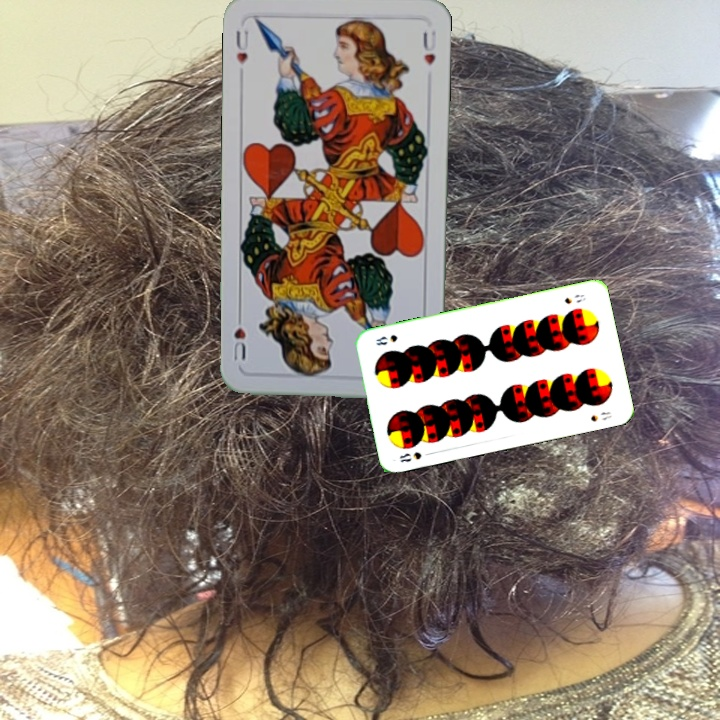HU: (231, 26, 251, 67)
S8: (395, 448, 424, 465), (561, 290, 588, 307)
